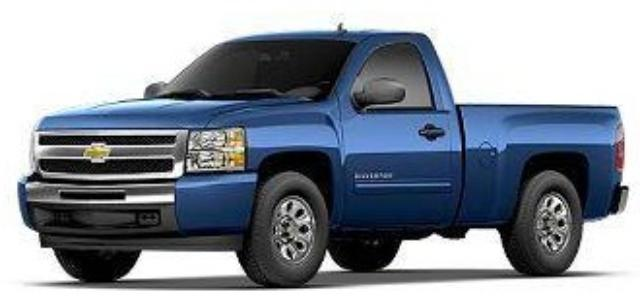pickup-truck: (17, 25, 630, 289)
